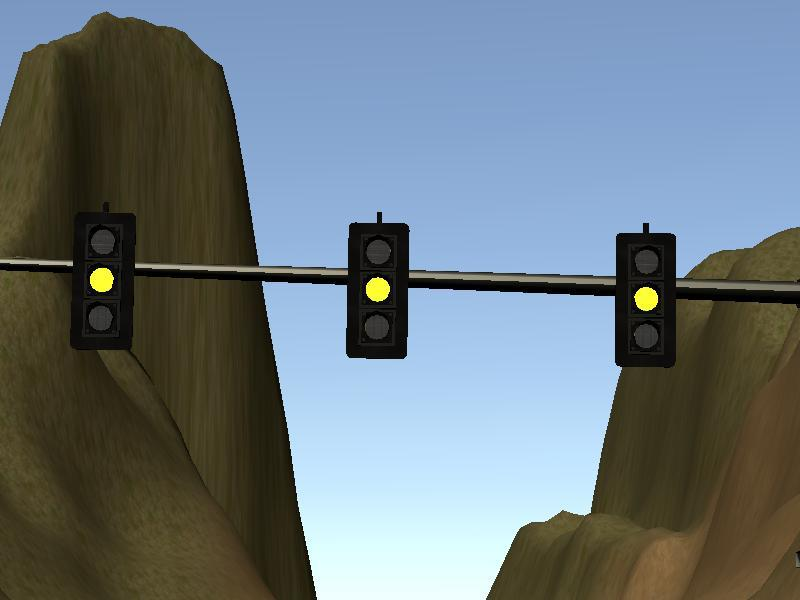Yellow: (72, 212, 132, 347), (349, 224, 407, 358), (616, 233, 674, 366)
